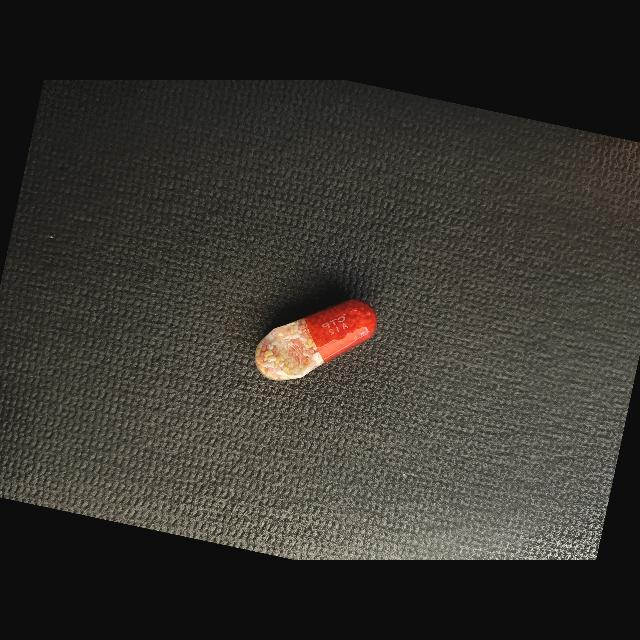Defective Capsule: (255, 299, 377, 381)
